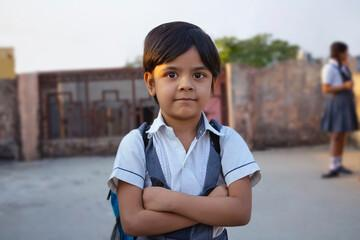Human: (102, 9, 260, 240)
